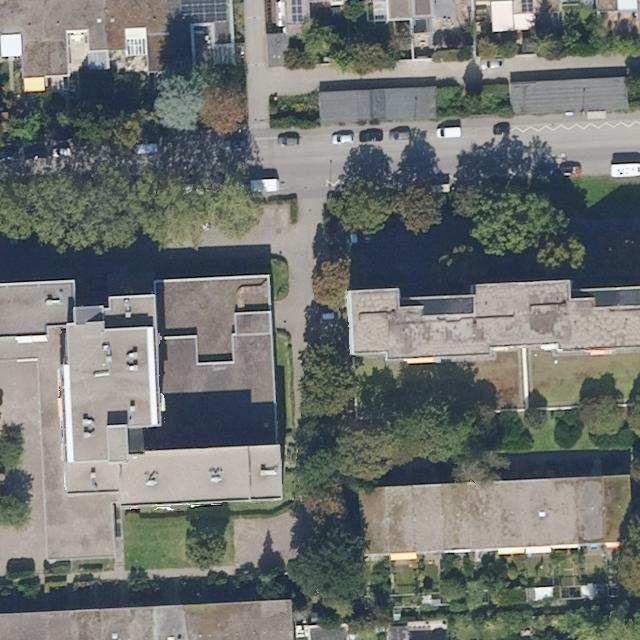PV: (179, 0, 229, 23), (290, 0, 302, 25), (519, 1, 533, 14)
